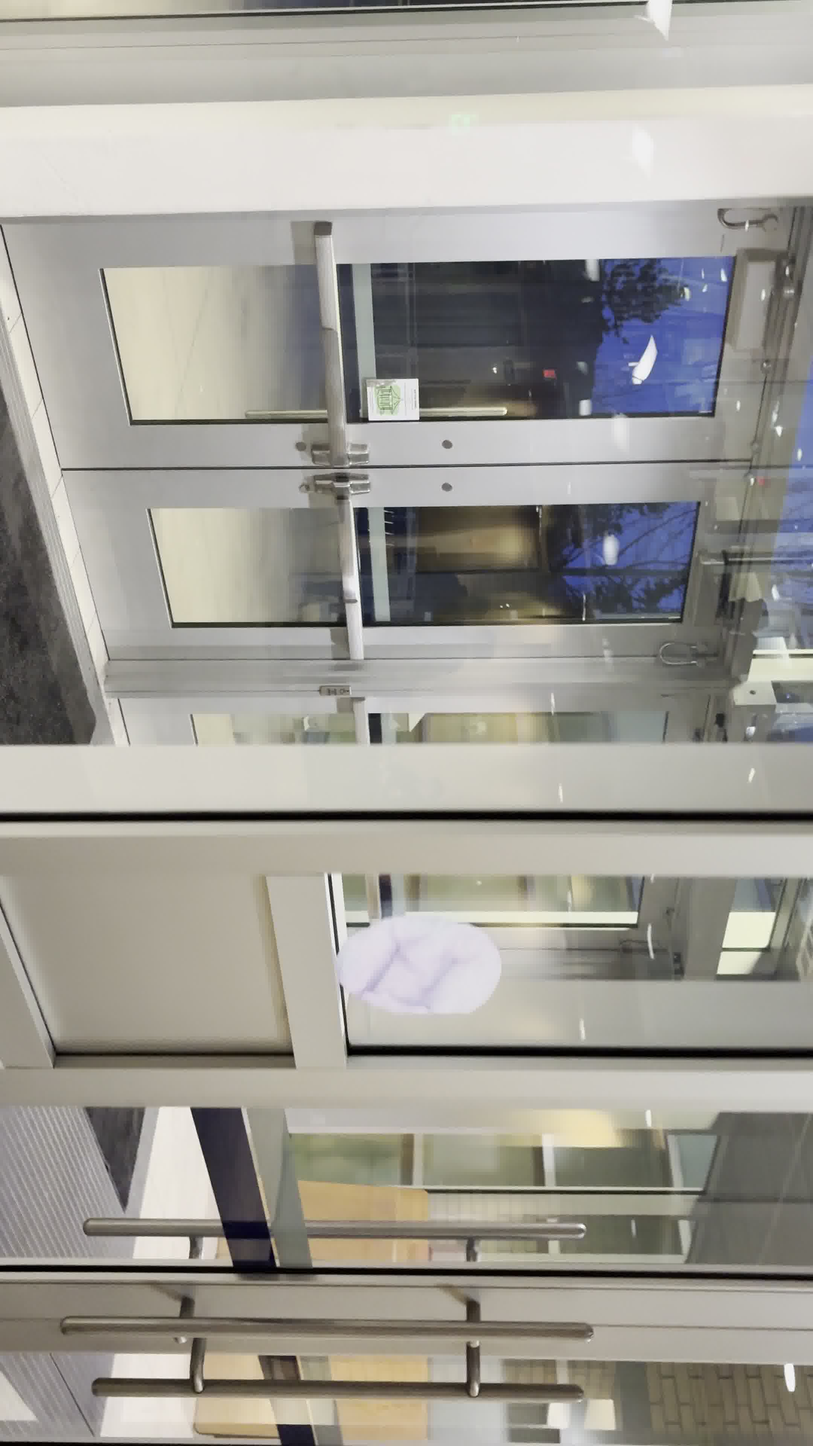Target: (326, 906, 511, 1019)
